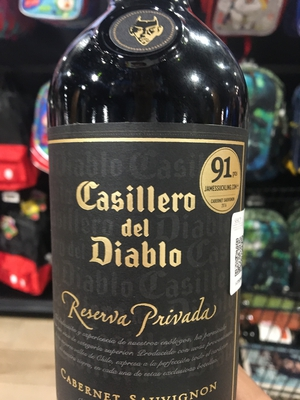casillero del diablo reserva privada cabernet sauvignon: (48, 25, 250, 400)
